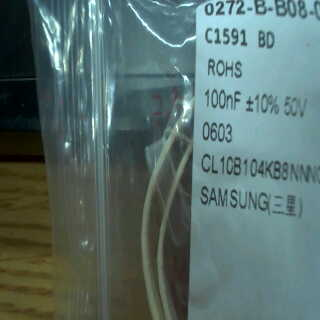100nF: (202, 85, 244, 111)
